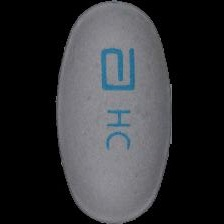24236-979: (0, 0, 224, 224)
